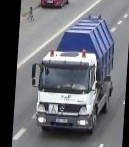car: (40, 0, 70, 10)
